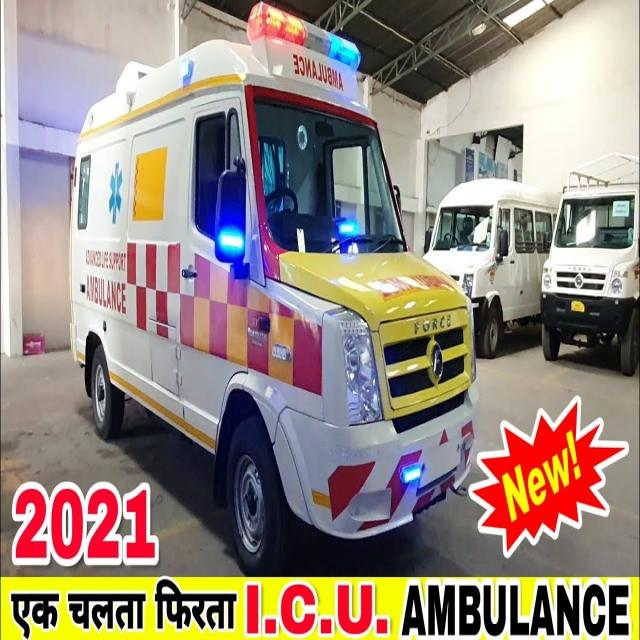ambulance: (68, 0, 480, 579)
